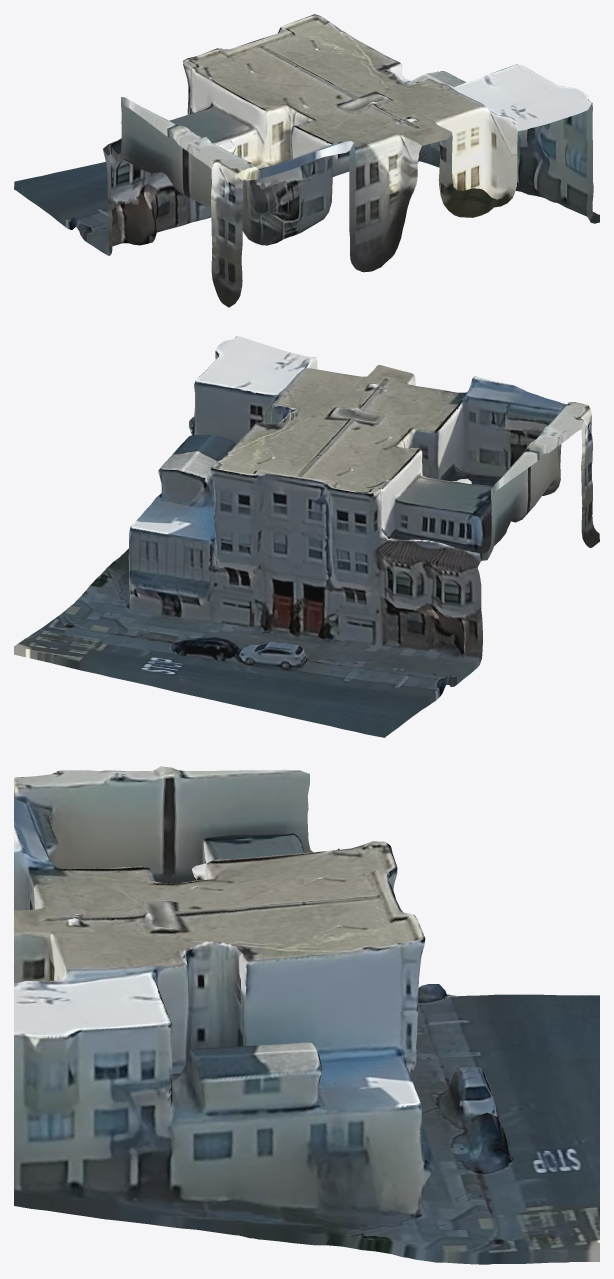
The model's file is z20-167739-405193-h0-yup-uvflip-v3-world.glb.
3 renders of one model, top to bottom at view 1: azimuth 30°, elevation 25°; view 2: azimuth 150°, elevation 25°; view 3: azimuth 270°, elevation 25°, orthographic. The views are drawn at different scales.
Size of the model in its own units: 30.2 by 14.6 by 30.32.
Materials: 1 (1 with a texture image).
